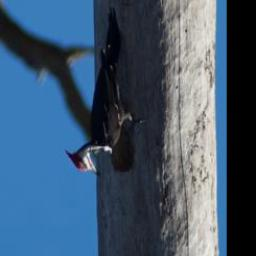Woodpecker: (65, 7, 147, 178)
